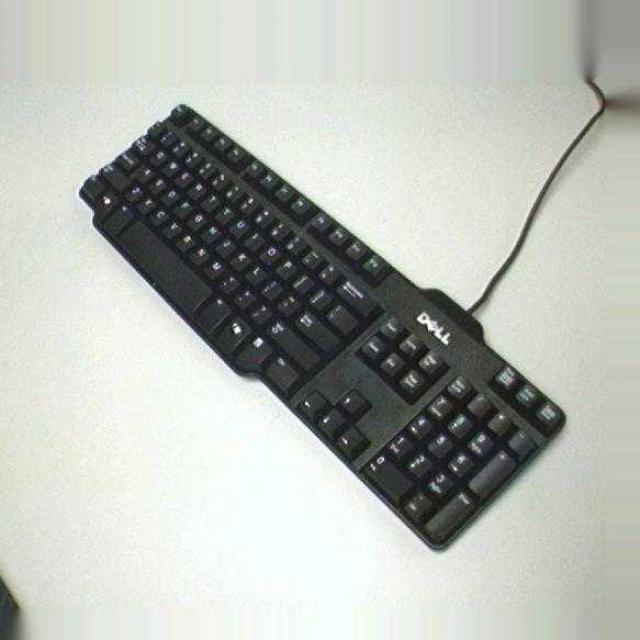keyboard: (73, 99, 572, 556)
